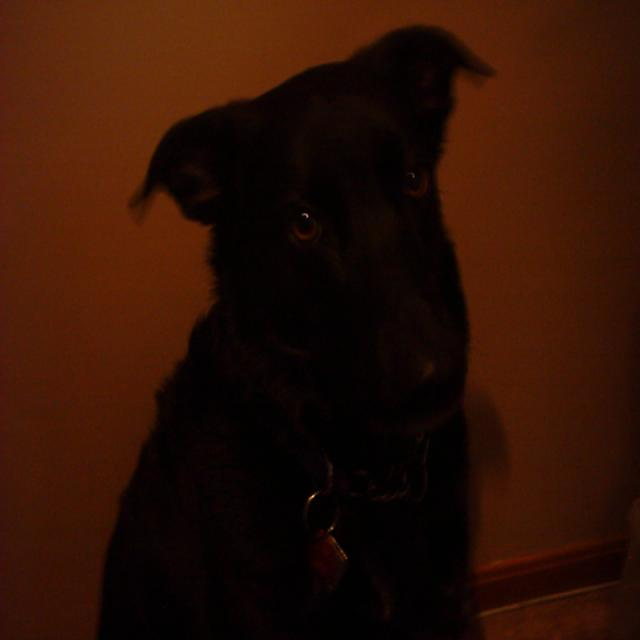Dog: (96, 35, 581, 640)
